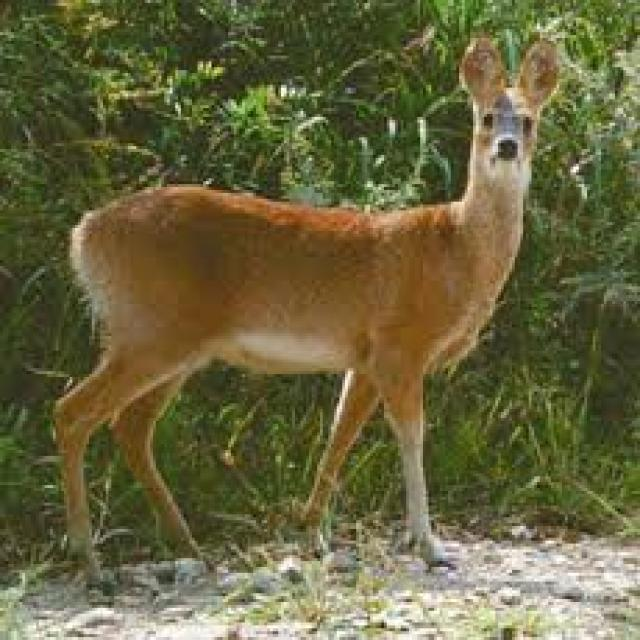elk: (49, 34, 560, 600)
